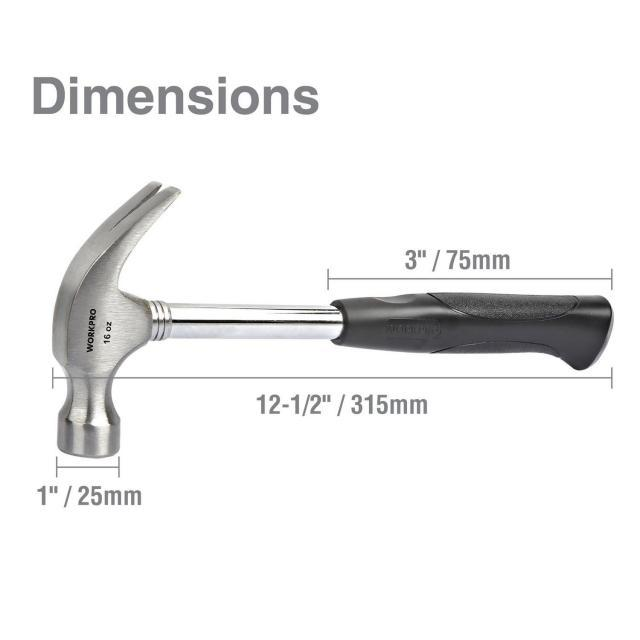hammer: (25, 177, 618, 467)
